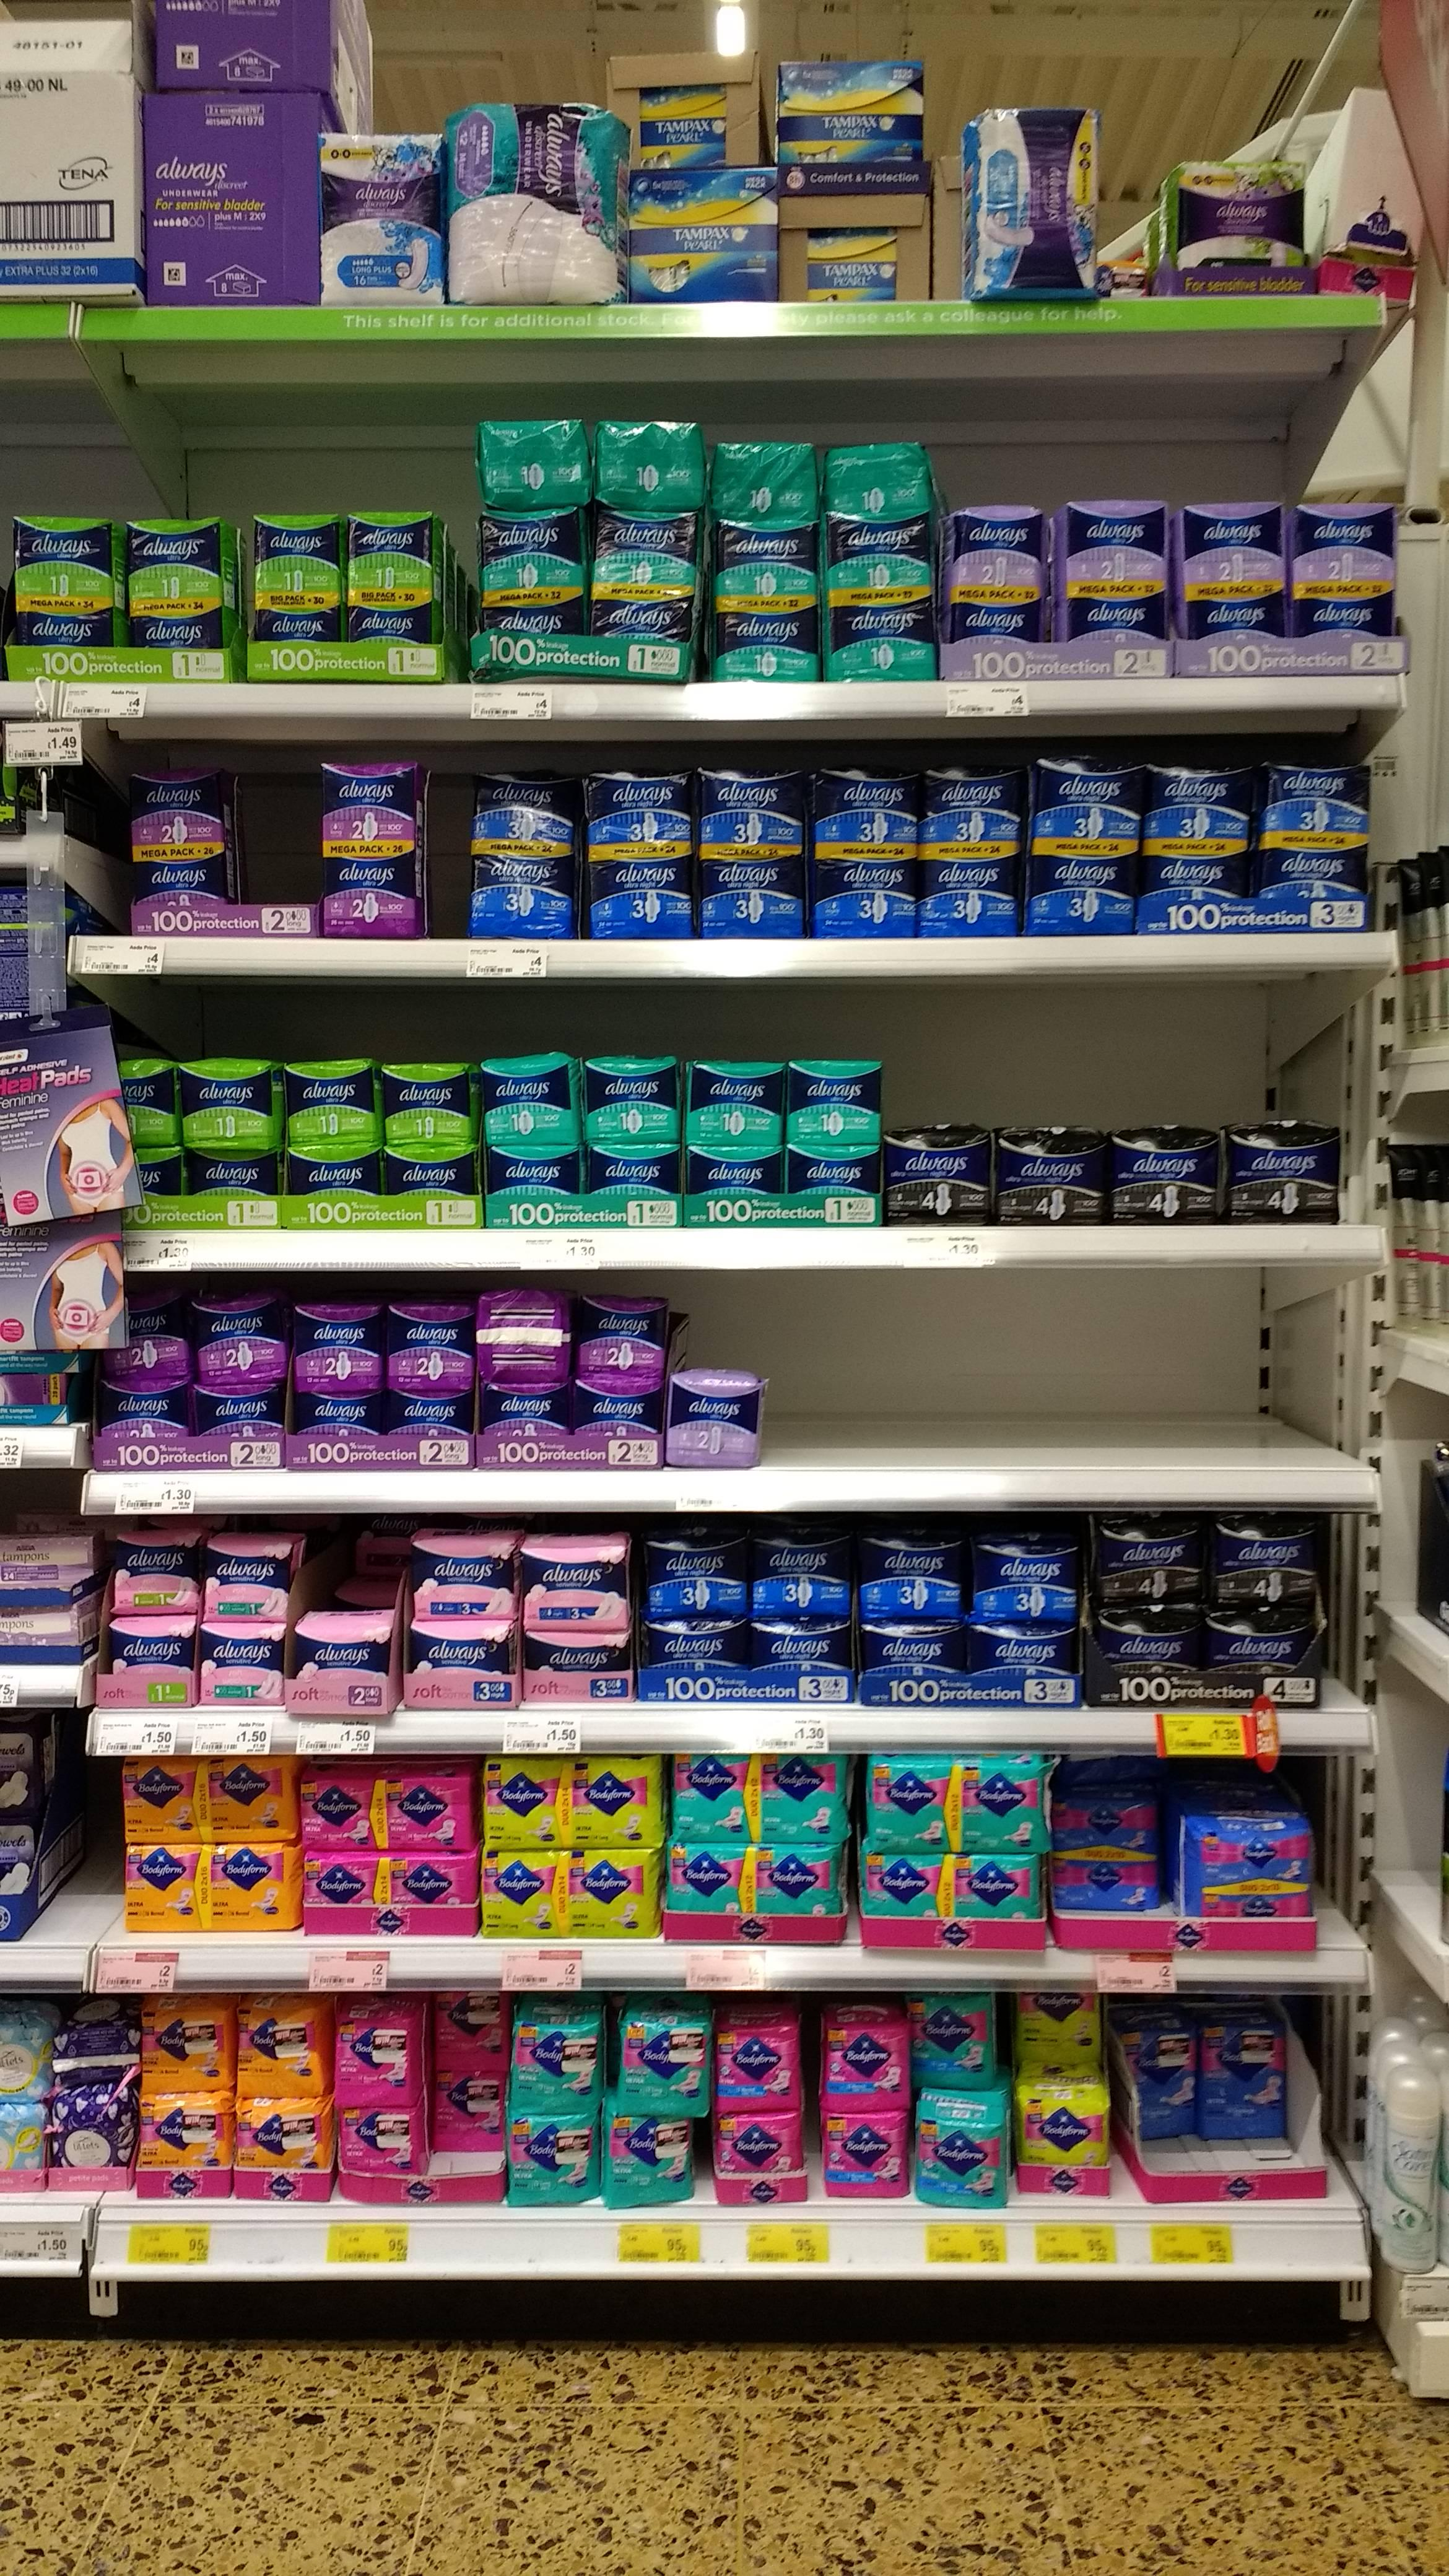empty: (771, 1322, 1339, 1461), (32, 1764, 127, 1932), (230, 764, 315, 904)
